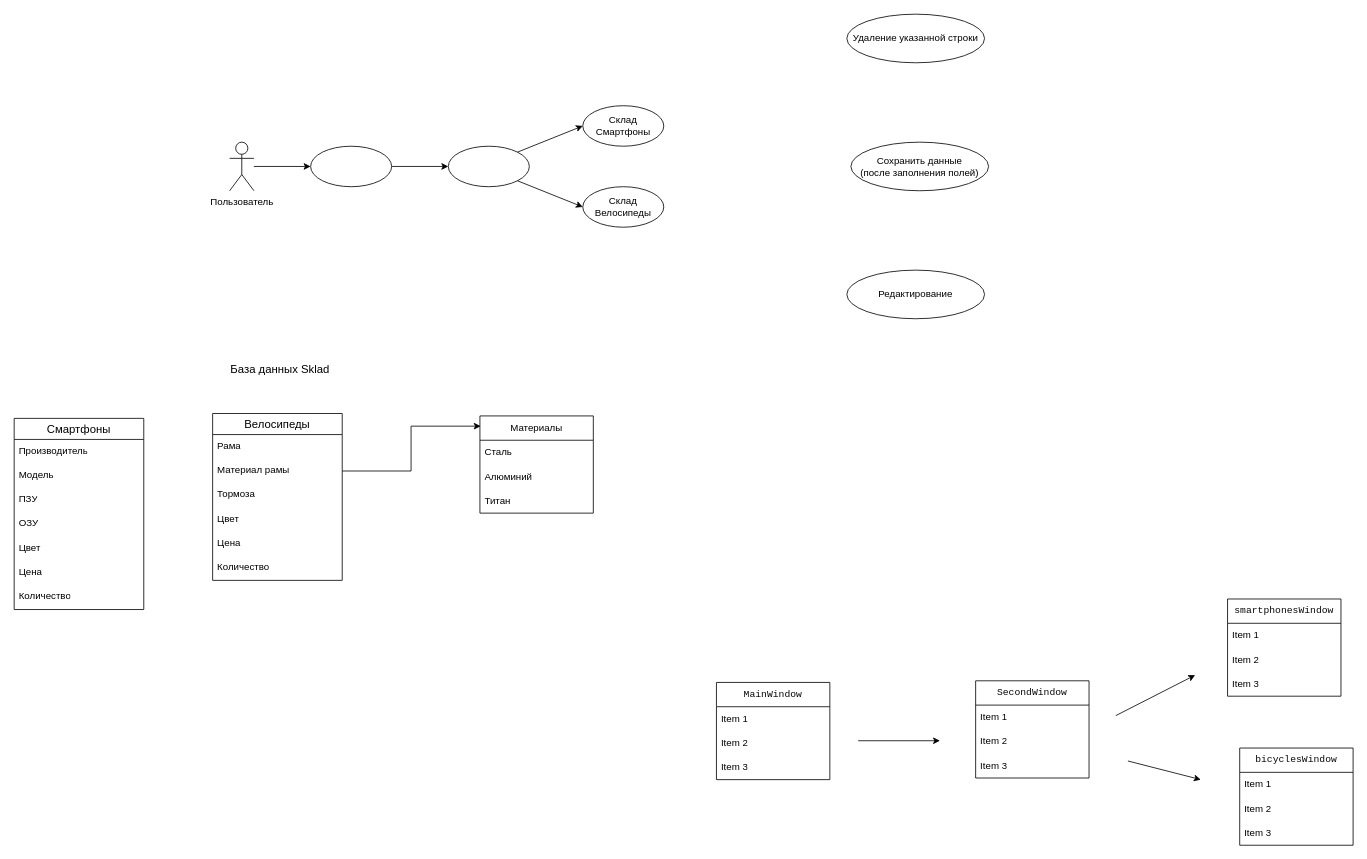
This 1367x859 diagram has some shape labels left out. Here are the shapes that lost their labels. From the top down, the centre of each, then its label:
(351,166): Запуск
(488,166): Выбор склада
